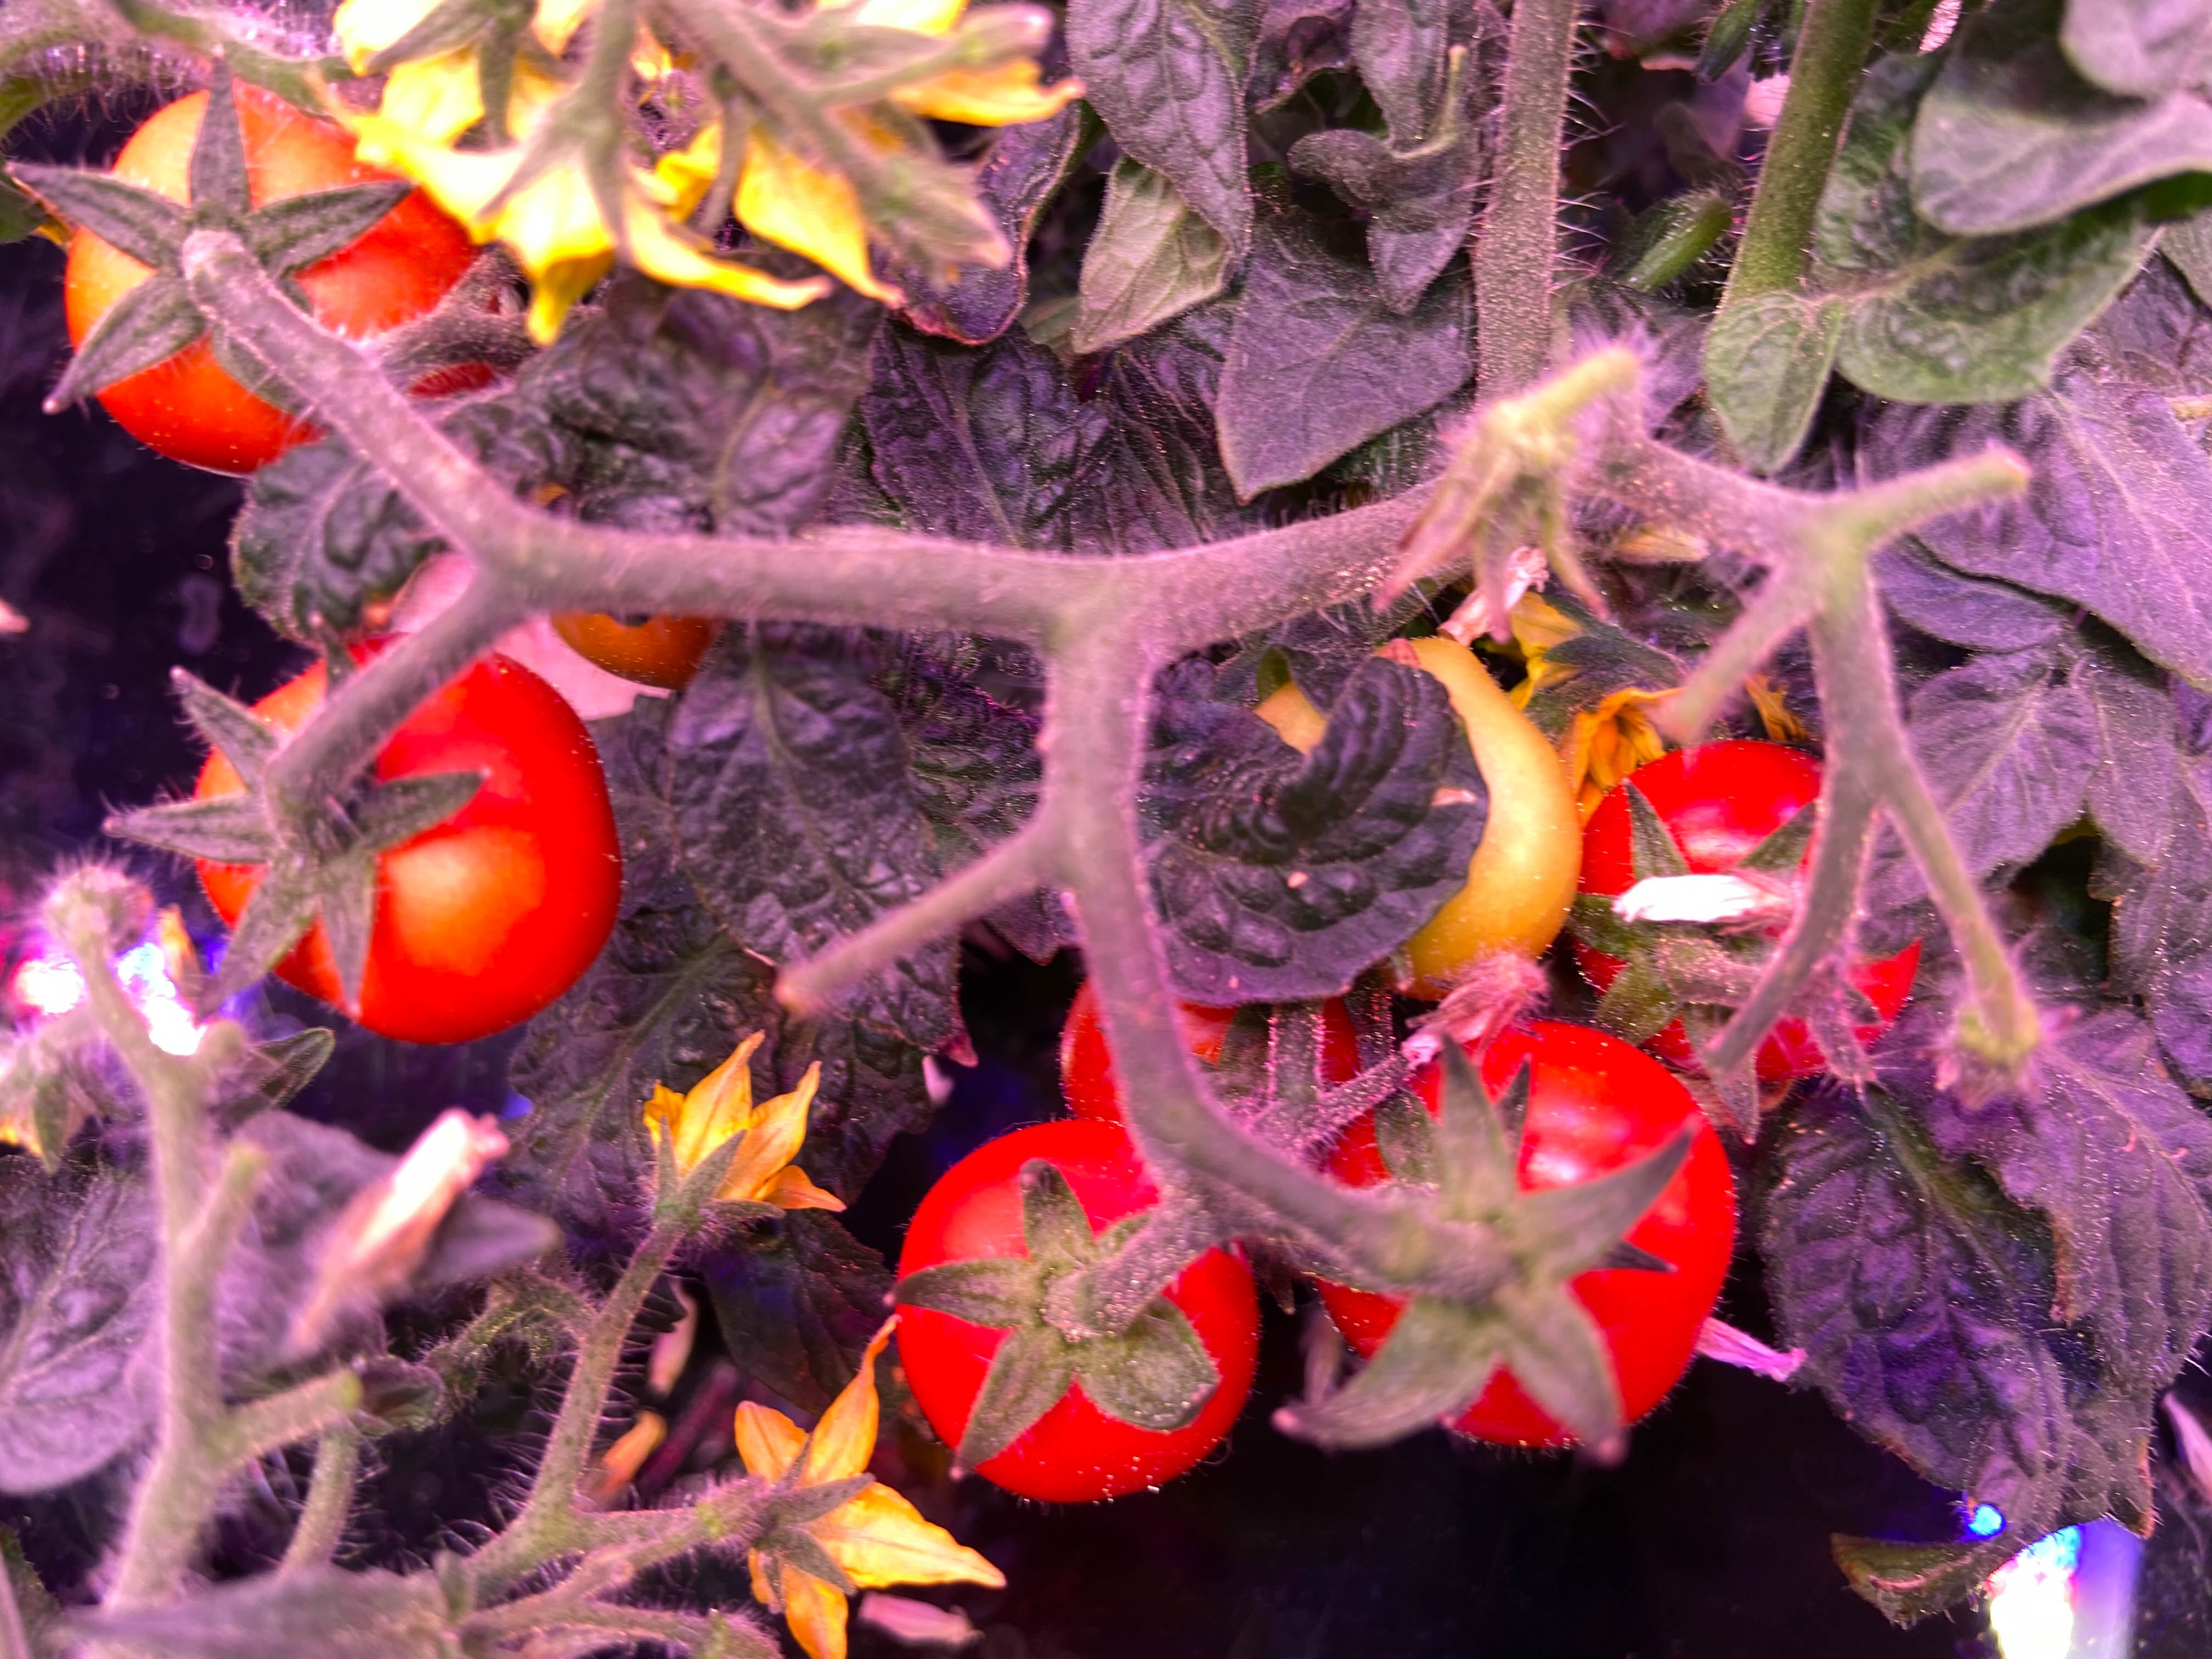green: (1266, 633, 1580, 993)
red: (1310, 1021, 1738, 1455), (193, 636, 622, 1044), (61, 75, 475, 472), (894, 1124, 1264, 1507), (1555, 748, 1916, 1108), (1038, 925, 1388, 1202), (545, 594, 719, 688)
